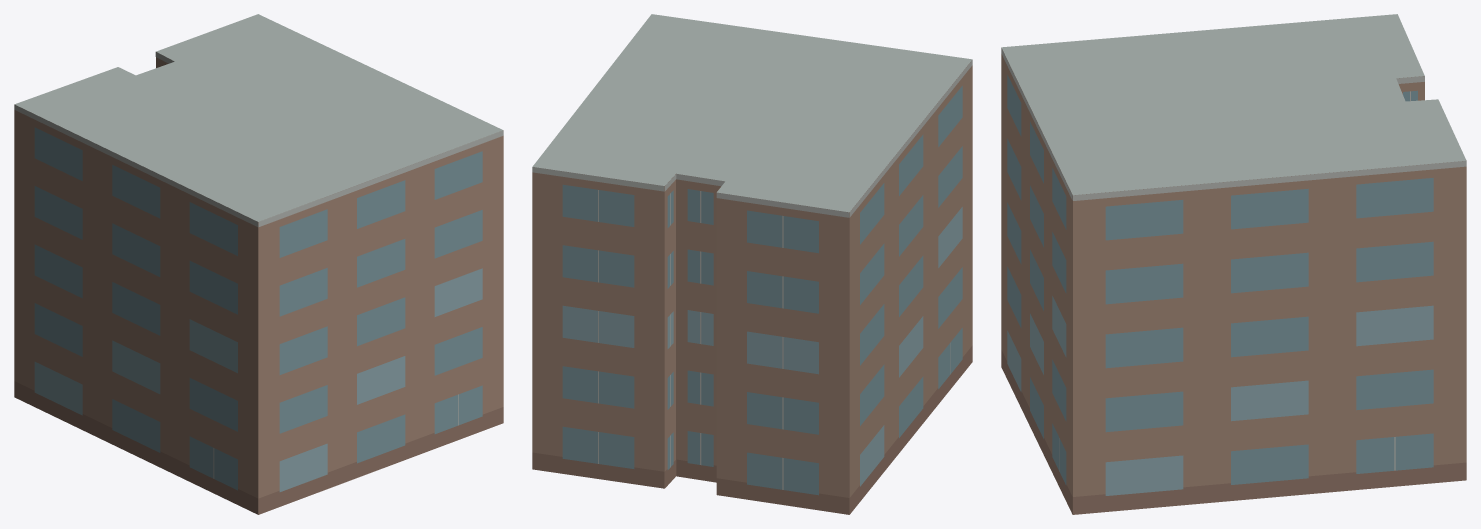
Rendered from survey-upis-33040945.glb.
3 views of the same model, side by side, from view 1: azimuth 30°, elevation 25°; view 2: azimuth 150°, elevation 25°; view 3: azimuth 270°, elevation 25° (orthographic). The views are drawn at different scales.
Parts seen in each view (by area): view 1: survey-upis-33040945.tmp; view 2: survey-upis-33040945.tmp; view 3: survey-upis-33040945.tmp.
Boxes of the visible parts, x1,y1,x2,y2 form: survey-upis-33040945.tmp: (14, 14, 503, 514); survey-upis-33040945.tmp: (532, 14, 972, 514); survey-upis-33040945.tmp: (1001, 14, 1466, 514).
Size of the model in its own units: 16.19 by 13.3 by 17.56.
